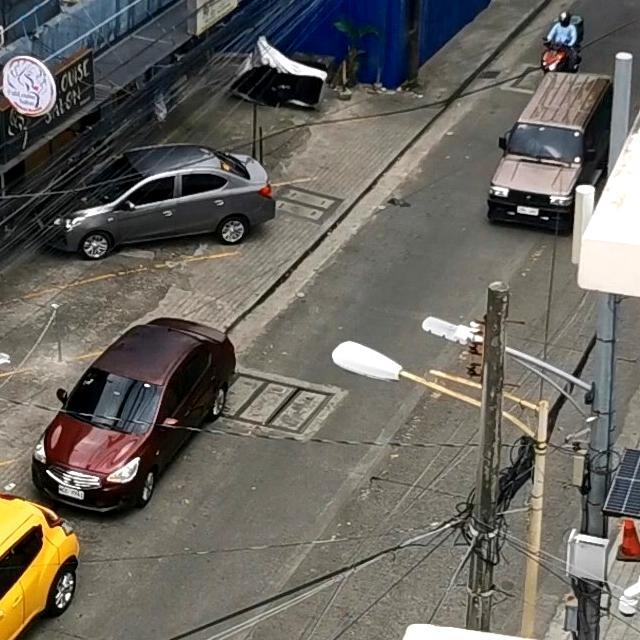Motorcycle: (534, 0, 583, 80)
